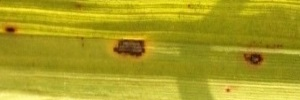RiceBrownSpot: (102, 30, 157, 66), (236, 47, 269, 73), (1, 21, 23, 40)
